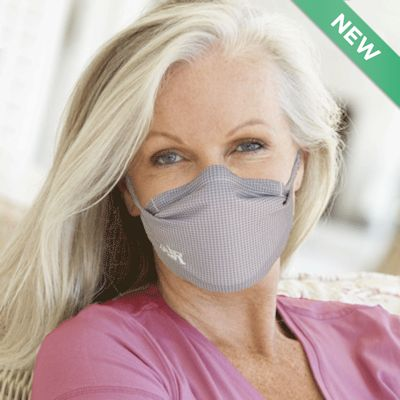mask: (138, 178, 306, 289)
